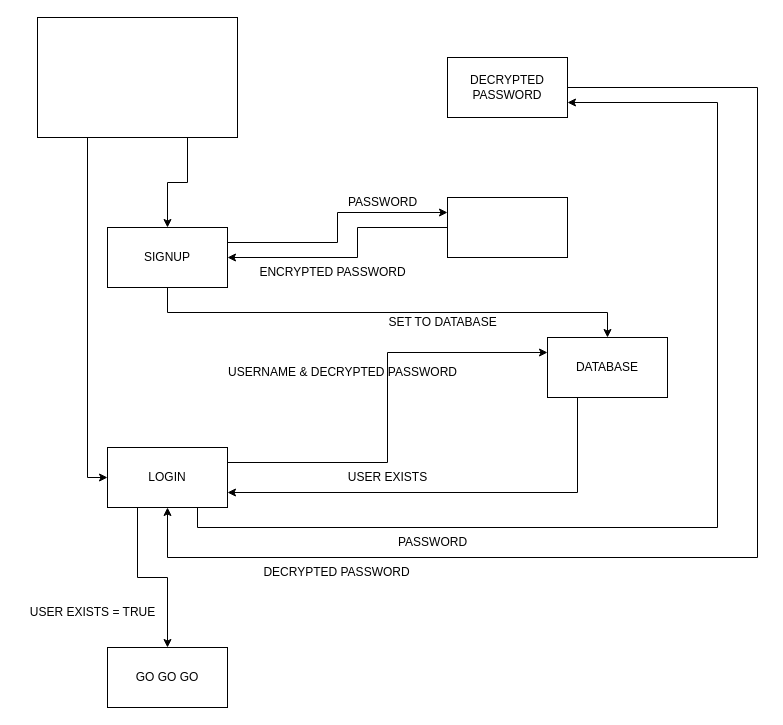
The diagram is 783 pixels wide and 725 high, and some of its shapes have lost their labels. Each missing label, with the centre of its shape:
ENCRYPTED PASSOWRD: the point at 507,227
INPUT USER USERNAME, PASSWORD: the point at 137,77
